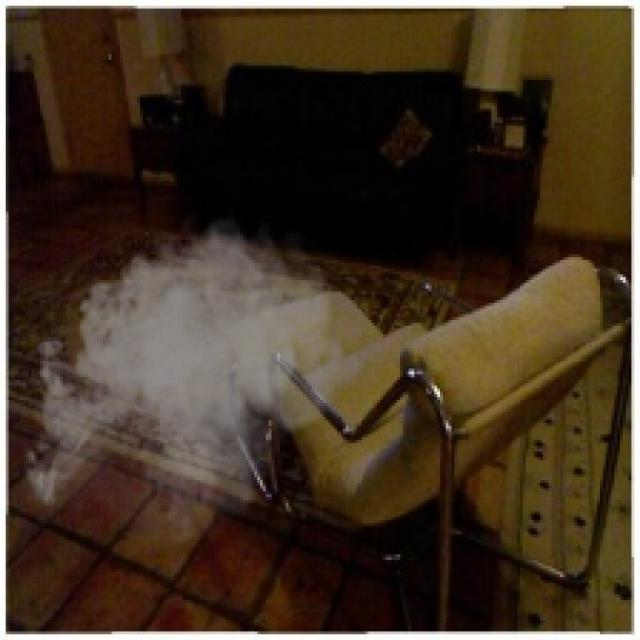Smoke: (14, 205, 366, 566)
